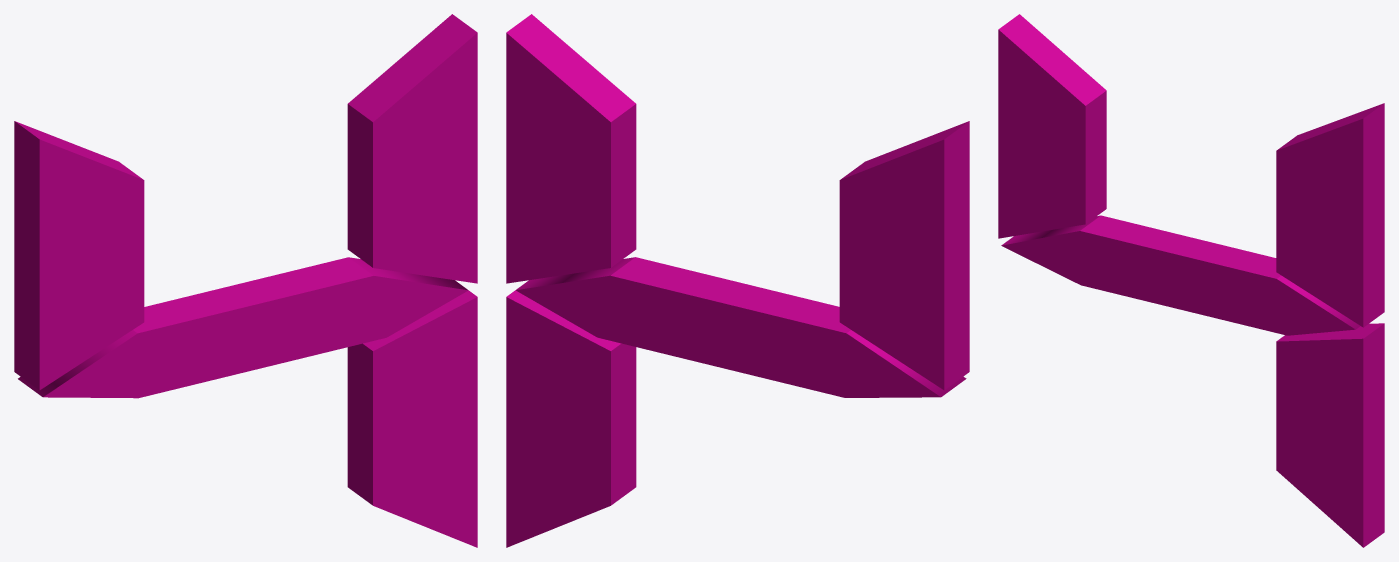
File: four.FBX
The picture shows the model from 3 angles, left to right: view 1: azimuth 30°, elevation 25°; view 2: azimuth 150°, elevation 25°; view 3: azimuth 330°, elevation 25°; orthographic projection. The views are drawn at different scales.
Parts seen in each view (by area): view 1: Box017; view 2: Box017; view 3: Box017.
Boxes of the visible parts, <box> form: Box017: <box>14,14,477,547</box>; Box017: <box>506,14,969,547</box>; Box017: <box>998,14,1384,547</box>.
Size of the model in its own units: 78.51 by 88.27 by 7.9.
